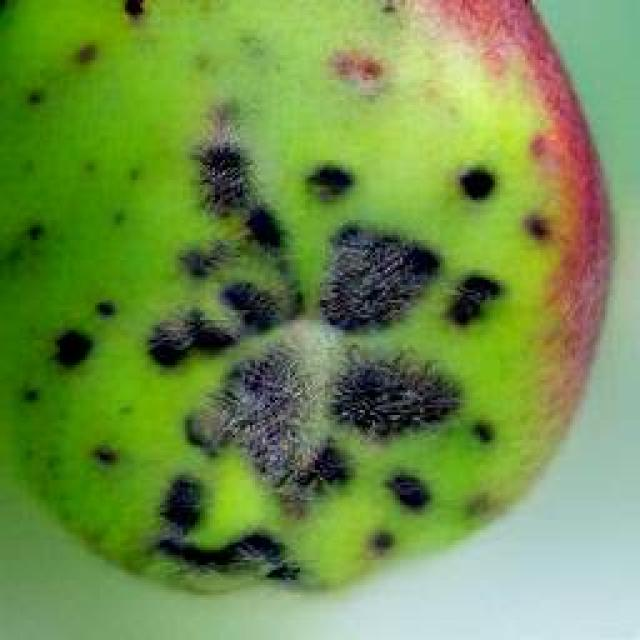defective: (0, 0, 615, 598)
